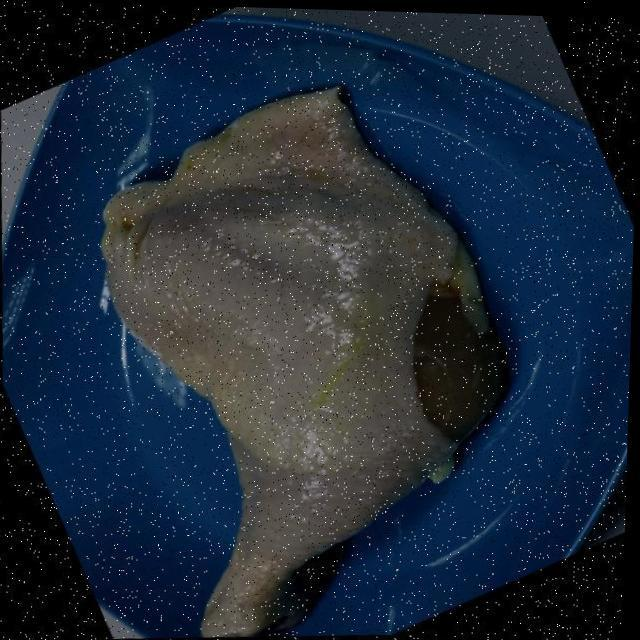quater: (118, 129, 498, 640)
